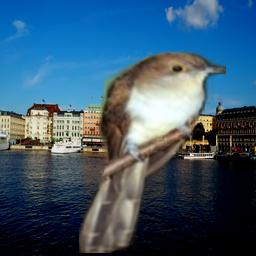Cuckoo: (79, 50, 226, 253)
